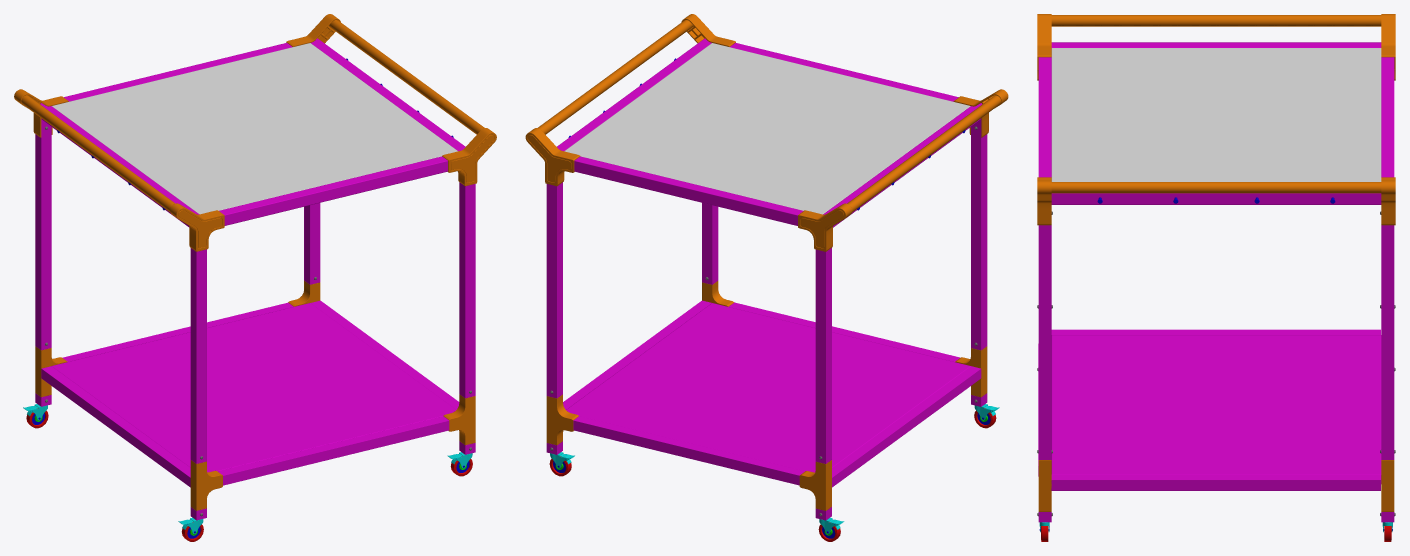
Rendered from metal-table.fbx.
The picture shows the model from 3 angles, left to right: view 1: azimuth 30°, elevation 25°; view 2: azimuth 150°, elevation 25°; view 3: azimuth 270°, elevation 25°; orthographic projection. The views are drawn at different scales.
Visible parts, largest first — view 1: metal-table; view 2: metal-table; view 3: metal-table.
Boxes of the visible parts, x1,y1,x2,y2 form: metal-table: [14, 14, 496, 520]; metal-table: [525, 14, 1008, 520]; metal-table: [1037, 14, 1395, 522].
Size of the model in its own units: 93.01 by 93.82 by 81.62.
